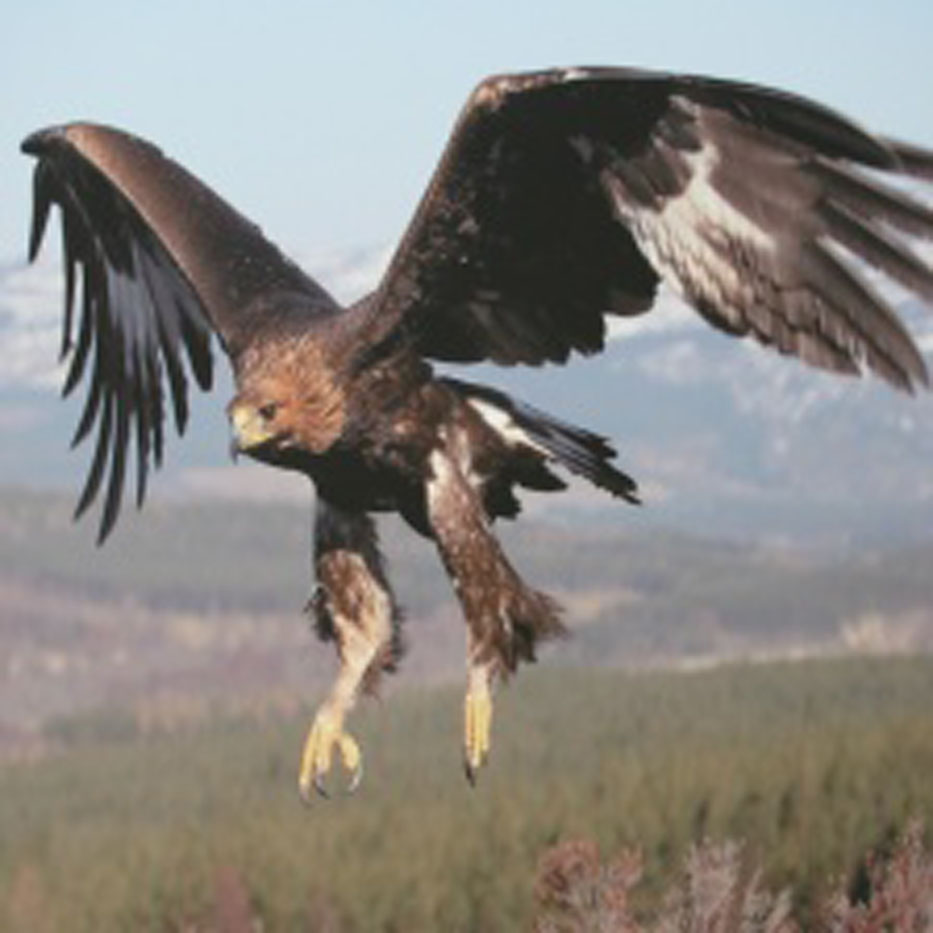Pengoyak Daging: (213, 417, 267, 466)
